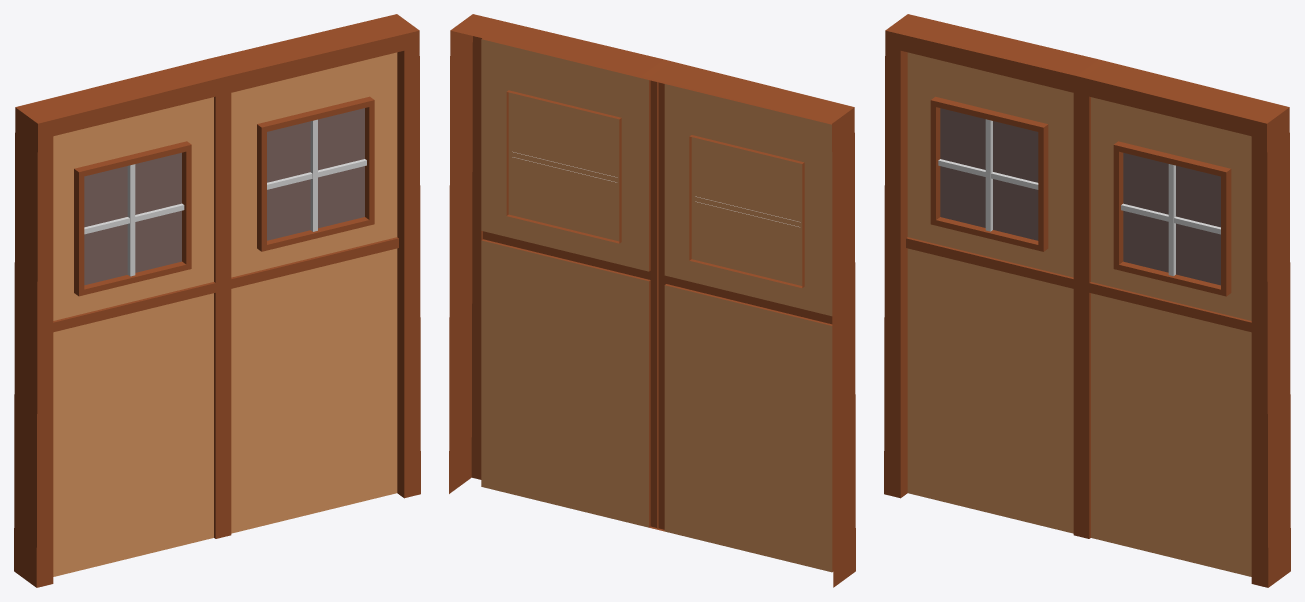
The model's file is DOOR.fbx.
3 renders of one model, left to right at view 1: azimuth 30°, elevation 25°; view 2: azimuth 150°, elevation 25°; view 3: azimuth 330°, elevation 25°, orthographic.
Visible parts, largest first — view 1: Plane:004; view 2: Plane:004; view 3: Plane:004.
Boxes of the visible parts, <box> form: Plane:004: <box>14,14,420,587</box>; Plane:004: <box>449,14,855,587</box>; Plane:004: <box>884,14,1290,587</box>.
Size of the model in its own units: 206 by 238 by 21.04.
